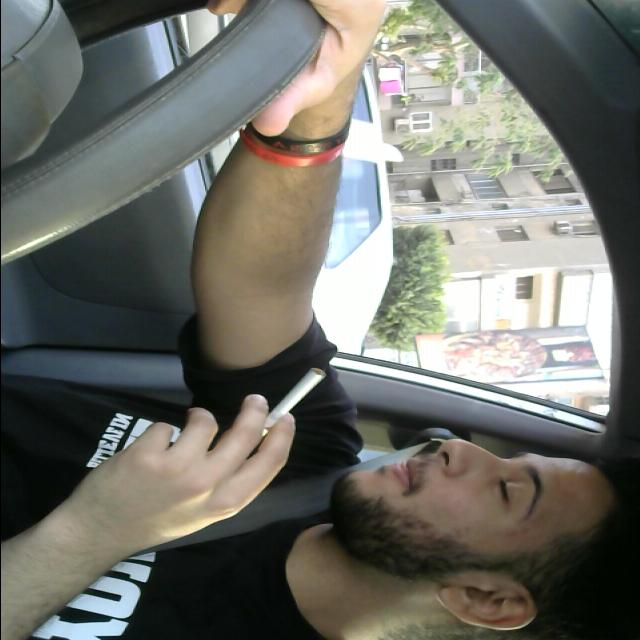smoking: (244, 356, 334, 446)
